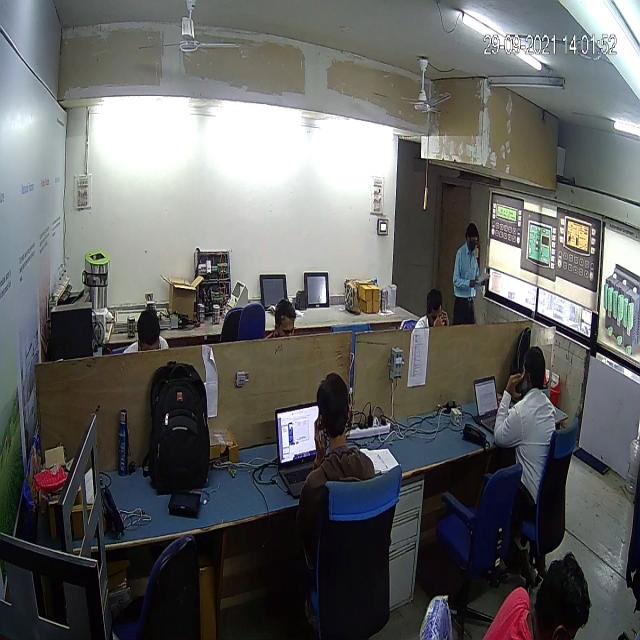adult: (492, 335, 564, 577), (449, 210, 482, 330)
